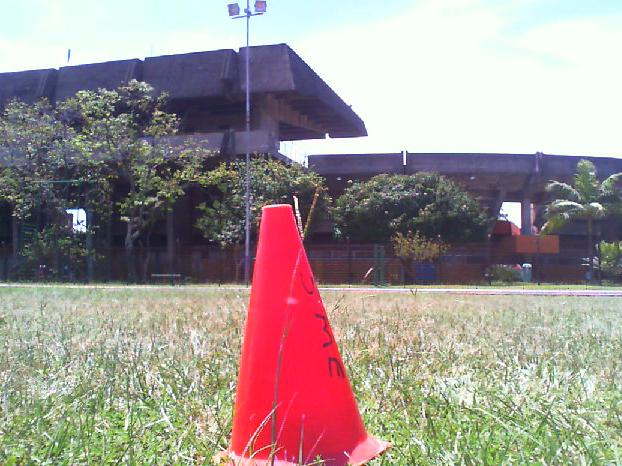0 cone: (210, 204, 392, 466)
